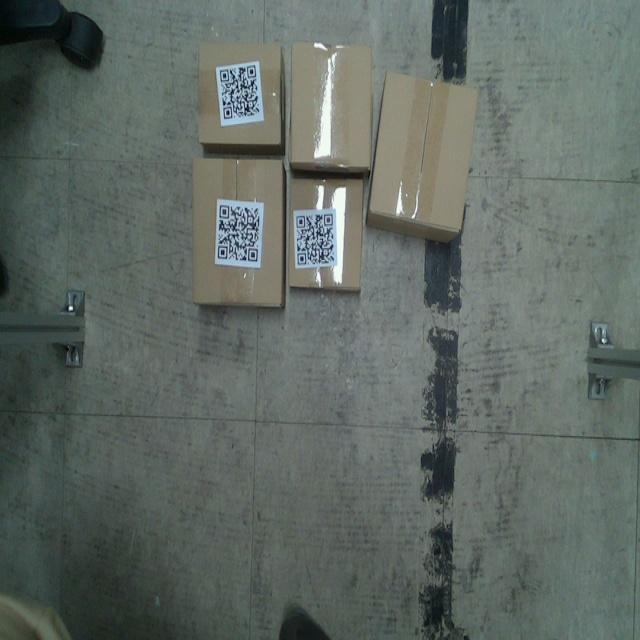box: (369, 70, 479, 248), (186, 156, 288, 312), (288, 41, 373, 178), (285, 174, 369, 296), (197, 42, 286, 151)
